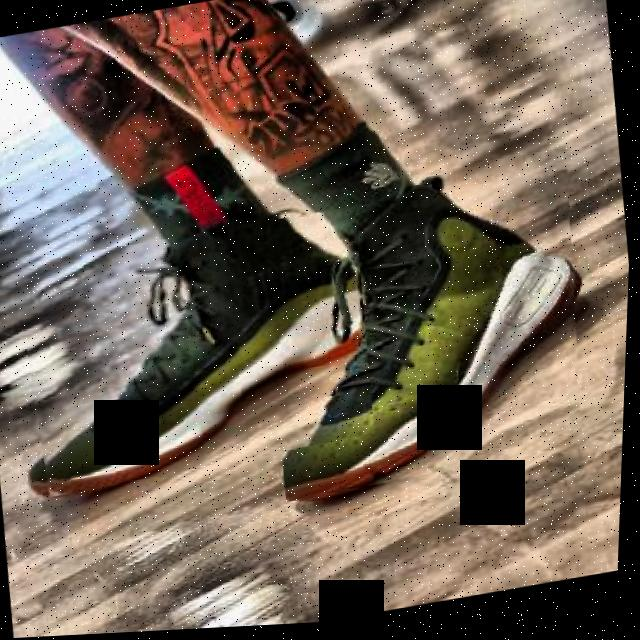shoe: (255, 173, 603, 506), (9, 208, 385, 501)
